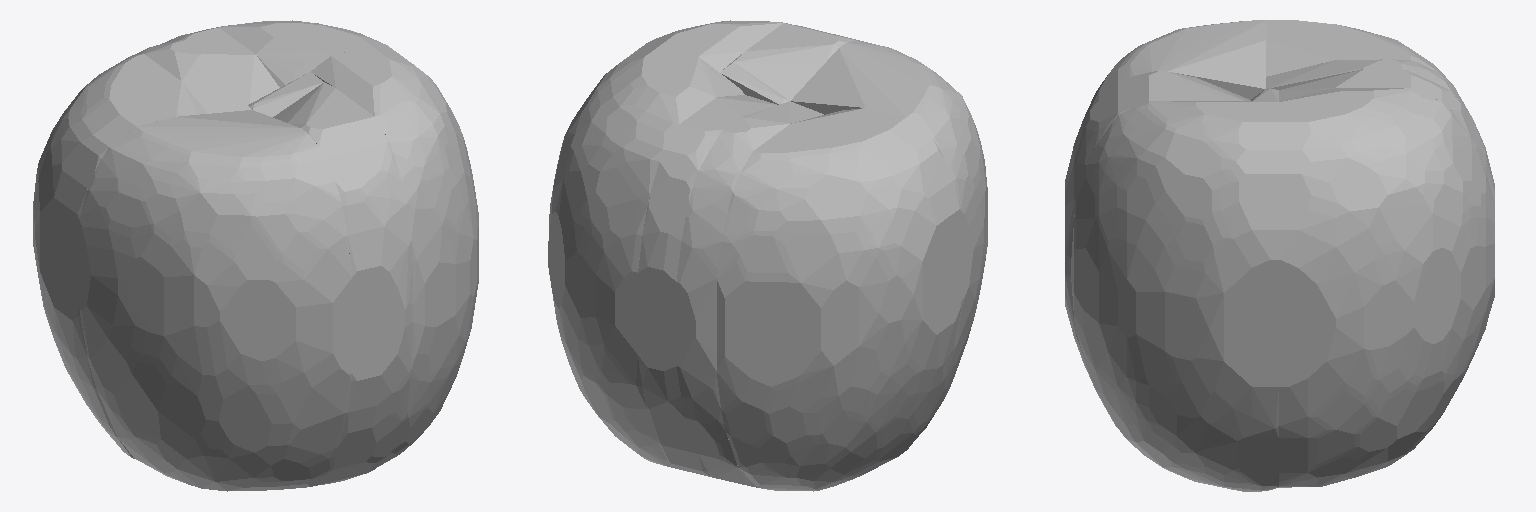
URDF robot description (root):
<robot name="root">
  <link name="body">
    <visual>
      <origin xyz="0 0 0" rpy="0 0 0"/>
      <geometry>
        <mesh filename="coacd_convex_piece_0.obj" scale="1.0000E+00 1.0000E+00 1.0000E+00"/>
      </geometry>
      <material name="">
        <color rgba="7.50E-01 7.50E-01 7.50E-01 1"/>
      </material>
    </visual>
    <collision>
      <origin xyz="0 0 0" rpy="0 0 0"/>
      <geometry>
        <mesh filename="coacd_convex_piece_0.obj" scale="1.0000E+00 1.0000E+00 1.0000E+00"/>
      </geometry>
    </collision>
    <visual>
      <origin xyz="0 0 0" rpy="0 0 0"/>
      <geometry>
        <mesh filename="coacd_convex_piece_1.obj" scale="1.0000E+00 1.0000E+00 1.0000E+00"/>
      </geometry>
      <material name="">
        <color rgba="7.50E-01 7.50E-01 7.50E-01 1"/>
      </material>
    </visual>
    <collision>
      <origin xyz="0 0 0" rpy="0 0 0"/>
      <geometry>
        <mesh filename="coacd_convex_piece_1.obj" scale="1.0000E+00 1.0000E+00 1.0000E+00"/>
      </geometry>
    </collision>
    <visual>
      <origin xyz="0 0 0" rpy="0 0 0"/>
      <geometry>
        <mesh filename="coacd_convex_piece_2.obj" scale="1.0000E+00 1.0000E+00 1.0000E+00"/>
      </geometry>
      <material name="">
        <color rgba="7.50E-01 7.50E-01 7.50E-01 1"/>
      </material>
    </visual>
    <collision>
      <origin xyz="0 0 0" rpy="0 0 0"/>
      <geometry>
        <mesh filename="coacd_convex_piece_2.obj" scale="1.0000E+00 1.0000E+00 1.0000E+00"/>
      </geometry>
    </collision>
    <visual>
      <origin xyz="0 0 0" rpy="0 0 0"/>
      <geometry>
        <mesh filename="coacd_convex_piece_3.obj" scale="1.0000E+00 1.0000E+00 1.0000E+00"/>
      </geometry>
      <material name="">
        <color rgba="7.50E-01 7.50E-01 7.50E-01 1"/>
      </material>
    </visual>
    <collision>
      <origin xyz="0 0 0" rpy="0 0 0"/>
      <geometry>
        <mesh filename="coacd_convex_piece_3.obj" scale="1.0000E+00 1.0000E+00 1.0000E+00"/>
      </geometry>
    </collision>
    <visual>
      <origin xyz="0 0 0" rpy="0 0 0"/>
      <geometry>
        <mesh filename="coacd_convex_piece_4.obj" scale="1.0000E+00 1.0000E+00 1.0000E+00"/>
      </geometry>
      <material name="">
        <color rgba="7.50E-01 7.50E-01 7.50E-01 1"/>
      </material>
    </visual>
    <collision>
      <origin xyz="0 0 0" rpy="0 0 0"/>
      <geometry>
        <mesh filename="coacd_convex_piece_4.obj" scale="1.0000E+00 1.0000E+00 1.0000E+00"/>
      </geometry>
    </collision>
    <visual>
      <origin xyz="0 0 0" rpy="0 0 0"/>
      <geometry>
        <mesh filename="coacd_convex_piece_5.obj" scale="1.0000E+00 1.0000E+00 1.0000E+00"/>
      </geometry>
      <material name="">
        <color rgba="7.50E-01 7.50E-01 7.50E-01 1"/>
      </material>
    </visual>
    <collision>
      <origin xyz="0 0 0" rpy="0 0 0"/>
      <geometry>
        <mesh filename="coacd_convex_piece_5.obj" scale="1.0000E+00 1.0000E+00 1.0000E+00"/>
      </geometry>
    </collision>
    <visual>
      <origin xyz="0 0 0" rpy="0 0 0"/>
      <geometry>
        <mesh filename="coacd_convex_piece_6.obj" scale="1.0000E+00 1.0000E+00 1.0000E+00"/>
      </geometry>
      <material name="">
        <color rgba="7.50E-01 7.50E-01 7.50E-01 1"/>
      </material>
    </visual>
    <collision>
      <origin xyz="0 0 0" rpy="0 0 0"/>
      <geometry>
        <mesh filename="coacd_convex_piece_6.obj" scale="1.0000E+00 1.0000E+00 1.0000E+00"/>
      </geometry>
    </collision>
    <visual>
      <origin xyz="0 0 0" rpy="0 0 0"/>
      <geometry>
        <mesh filename="coacd_convex_piece_7.obj" scale="1.0000E+00 1.0000E+00 1.0000E+00"/>
      </geometry>
      <material name="">
        <color rgba="7.50E-01 7.50E-01 7.50E-01 1"/>
      </material>
    </visual>
    <collision>
      <origin xyz="0 0 0" rpy="0 0 0"/>
      <geometry>
        <mesh filename="coacd_convex_piece_7.obj" scale="1.0000E+00 1.0000E+00 1.0000E+00"/>
      </geometry>
    </collision>
  </link>
  <link name="base">
        <visual>
      <origin xyz="0 0 0" rpy="0 0 0"/>
      <geometry>
        <mesh filename="coacd_convex_piece_7.obj" scale="1.0000E-05 1.0000E-05 1.0000E-05"/>
      </geometry>
      <material name="">
        <color rgba="7.50E-01 7.50E-01 7.50E-01 1"/>
      </material>
    </visual>
    <collision>
      <origin xyz="0 0 0" rpy="0 0 0"/>
      <geometry>
        <mesh filename="coacd_convex_piece_7.obj" scale="1.0000E-05 1.0000E-05 1.0000E-05"/>
      </geometry>
    </collision>
  </link>
<!--  <link name="base1"></link>-->
<!--  <joint name="joint1" type="fixed">-->
<!--    <origin xyz="0 0 0" rpy="0 0 0"/>-->
<!--    <parent link="base"/>-->
<!--    <child link="body"/>-->
<!--  </joint>-->
  <joint name="joint_use" type="revolute">
    <origin xyz="0 0 0" rpy="0 0 0"/>
    <parent link="body"/>
    <child link="base"/>
    <axis xyz="0 0 1"/>
    <limit lower="0.00" upper="1"/>
  </joint>
</robot>

--- Render facts (derived) ---
The picture shows the robot from 3 angles, left to right: view 1: azimuth 30°, elevation 25°; view 2: azimuth 150°, elevation 25°; view 3: azimuth 270°, elevation 25°; orthographic projection.
Robot: root — 2 links, 1 joints (1 revolute); root link body; default pose: every joint at zero.
Visible links, largest first — view 1: body; view 2: body; view 3: body.
Link boxes in pixels (bbox=[...]): body: bbox=[33, 20, 478, 491]; body: bbox=[548, 20, 987, 491]; body: bbox=[1065, 20, 1494, 491].
Bounding box of the posed robot: 1.71 × 1.71 × 1.63 m (x, y, z).
Meshes: 8 distinct files referenced, 9 mesh visuals loaded (8 OBJ).